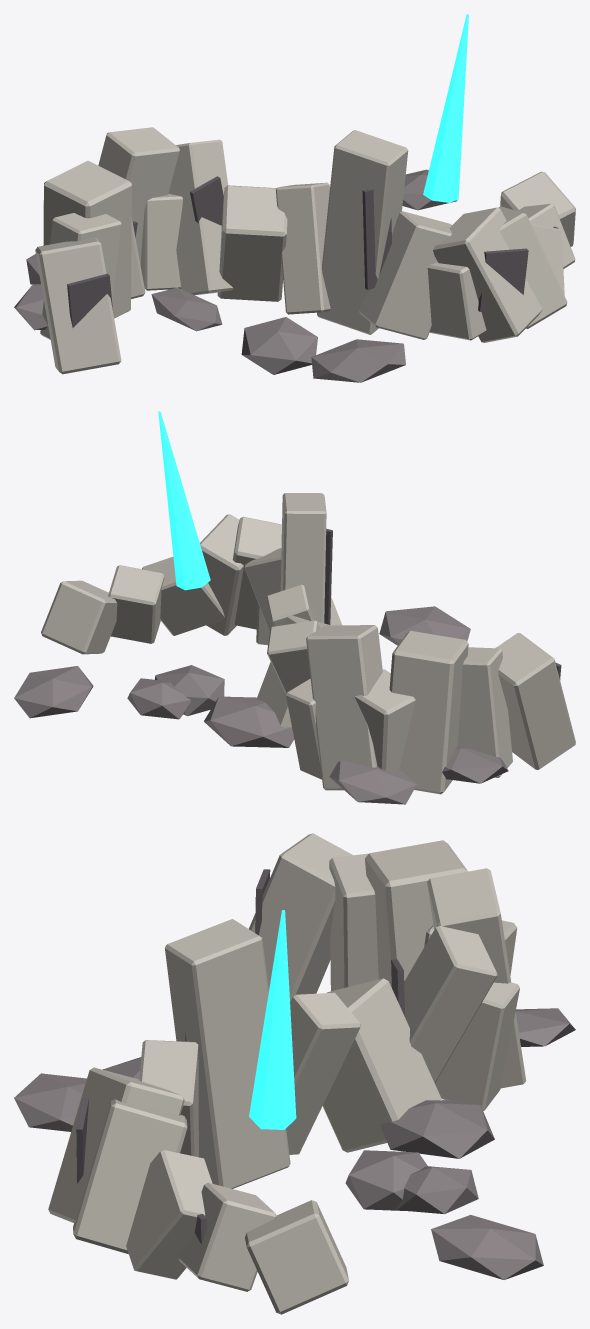
File: runtime.glb
3 renders of one model, top to bottom at view 1: azimuth 30°, elevation 25°; view 2: azimuth 150°, elevation 25°; view 3: azimuth 270°, elevation 25°, orthographic. The views are drawn at different scales.
Parts seen in each view (by area): view 1: crystal-ruins-rubble-cluster-v05_stone_09_nocol, crystal-ruins-rubble-cluster-v05_stone_00_nocol, crystal-ruins-rubble-cluster-v05_stone_07_nocol, crystal-ruins-rubble-cluster-v05_stone_10_nocol, crystal-ruins-rubble-cluster-v05_stone_12_nocol, crystal-ruins-rubble-cluster-v05_stone_06_nocol, crystal-ruins-rubble-cluster-v05_stone_02_nocol, crystal-ruins-rubble-cluster-v05_stone_08_nocol, crystal-ruins-rubble-cluster-v05_stone_04_nocol, crystal-ruins-rubble-cluster-v05_crystal_00_nocol, crystal-ruins-rubble-cluster-v05_stone_11_nocol, crystal-ruins-rubble-cluster-v05_stone_05_nocol (+15 smaller); view 2: crystal-ruins-rubble-cluster-v05_stone_02_nocol, crystal-ruins-rubble-cluster-v05_stone_04_nocol, crystal-ruins-rubble-cluster-v05_stone_00_nocol, crystal-ruins-rubble-cluster-v05_stone_01_nocol, crystal-ruins-rubble-cluster-v05_stone_09_nocol, crystal-ruins-rubble-cluster-v05_stone_16_nocol, crystal-ruins-rubble-cluster-v05_crystal_00_nocol, crystal-ruins-rubble-cluster-v05_stone_15_nocol, crystal-ruins-rubble-cluster-v05_stone_03_nocol, crystal-ruins-rubble-cluster-v05_deposit_07_nocol, crystal-ruins-rubble-cluster-v05_stone_13_nocol, crystal-ruins-rubble-cluster-v05_deposit_04_nocol (+13 smaller); view 3: crystal-ruins-rubble-cluster-v05_stone_09_nocol, crystal-ruins-rubble-cluster-v05_stone_07_nocol, crystal-ruins-rubble-cluster-v05_stone_13_nocol, crystal-ruins-rubble-cluster-v05_stone_00_nocol, crystal-ruins-rubble-cluster-v05_stone_06_nocol, crystal-ruins-rubble-cluster-v05_stone_02_nocol, crystal-ruins-rubble-cluster-v05_stone_16_nocol, crystal-ruins-rubble-cluster-v05_stone_14_nocol, crystal-ruins-rubble-cluster-v05_stone_08_nocol, crystal-ruins-rubble-cluster-v05_stone_15_nocol, crystal-ruins-rubble-cluster-v05_stone_05_nocol, crystal-ruins-rubble-cluster-v05_stone_04_nocol (+11 smaller).
Boxes of the visible parts, x1,y1,x2,y2 form: crystal-ruins-rubble-cluster-v05_stone_09_nocol: (317, 130, 408, 334); crystal-ruins-rubble-cluster-v05_stone_00_nocol: (35, 237, 121, 374); crystal-ruins-rubble-cluster-v05_stone_07_nocol: (217, 185, 287, 301); crystal-ruins-rubble-cluster-v05_stone_10_nocol: (359, 211, 452, 339); crystal-ruins-rubble-cluster-v05_stone_12_nocol: (433, 207, 542, 342); crystal-ruins-rubble-cluster-v05_stone_06_nocol: (168, 139, 233, 295); crystal-ruins-rubble-cluster-v05_stone_02_nocol: (43, 160, 131, 318); crystal-ruins-rubble-cluster-v05_stone_08_nocol: (276, 182, 330, 314); crystal-ruins-rubble-cluster-v05_stone_04_nocol: (98, 127, 179, 264); crystal-ruins-rubble-cluster-v05_crystal_00_nocol: (423, 14, 468, 202); crystal-ruins-rubble-cluster-v05_stone_11_nocol: (427, 262, 486, 340); crystal-ruins-rubble-cluster-v05_stone_05_nocol: (140, 194, 182, 290); crystal-ruins-rubble-cluster-v05_stone_02_nocol: (389, 630, 468, 794); crystal-ruins-rubble-cluster-v05_stone_04_nocol: (306, 625, 382, 790); crystal-ruins-rubble-cluster-v05_stone_00_nocol: (495, 633, 575, 769); crystal-ruins-rubble-cluster-v05_stone_01_nocol: (457, 647, 512, 777); crystal-ruins-rubble-cluster-v05_stone_09_nocol: (280, 493, 326, 623); crystal-ruins-rubble-cluster-v05_stone_16_nocol: (41, 580, 117, 654); crystal-ruins-rubble-cluster-v05_crystal_00_nocol: (158, 411, 210, 590); crystal-ruins-rubble-cluster-v05_stone_15_nocol: (108, 565, 164, 643); crystal-ruins-rubble-cluster-v05_stone_03_nocol: (354, 669, 415, 770); crystal-ruins-rubble-cluster-v05_deposit_07_nocol: (204, 696, 294, 747); crystal-ruins-rubble-cluster-v05_stone_13_nocol: (200, 514, 243, 635); crystal-ruins-rubble-cluster-v05_deposit_04_nocol: (14, 666, 93, 718); crystal-ruins-rubble-cluster-v05_stone_09_nocol: (165, 919, 290, 1188); crystal-ruins-rubble-cluster-v05_stone_07_nocol: (322, 978, 442, 1152); crystal-ruins-rubble-cluster-v05_stone_13_nocol: (73, 1099, 187, 1253); crystal-ruins-rubble-cluster-v05_stone_00_nocol: (249, 833, 352, 1002); crystal-ruins-rubble-cluster-v05_stone_06_nocol: (404, 926, 497, 1083); crystal-ruins-rubble-cluster-v05_stone_02_nocol: (365, 840, 467, 987); crystal-ruins-rubble-cluster-v05_stone_16_nocol: (245, 1200, 348, 1314); crystal-ruins-rubble-cluster-v05_stone_14_nocol: (126, 1149, 212, 1279); crystal-ruins-rubble-cluster-v05_stone_08_nocol: (286, 992, 361, 1154); crystal-ruins-rubble-cluster-v05_stone_15_nocol: (178, 1182, 276, 1291); crystal-ruins-rubble-cluster-v05_stone_05_nocol: (435, 982, 519, 1110); crystal-ruins-rubble-cluster-v05_stone_04_nocol: (427, 868, 526, 1088).
Size of the model in its own units: 7.4 by 3.61 by 5.21.
